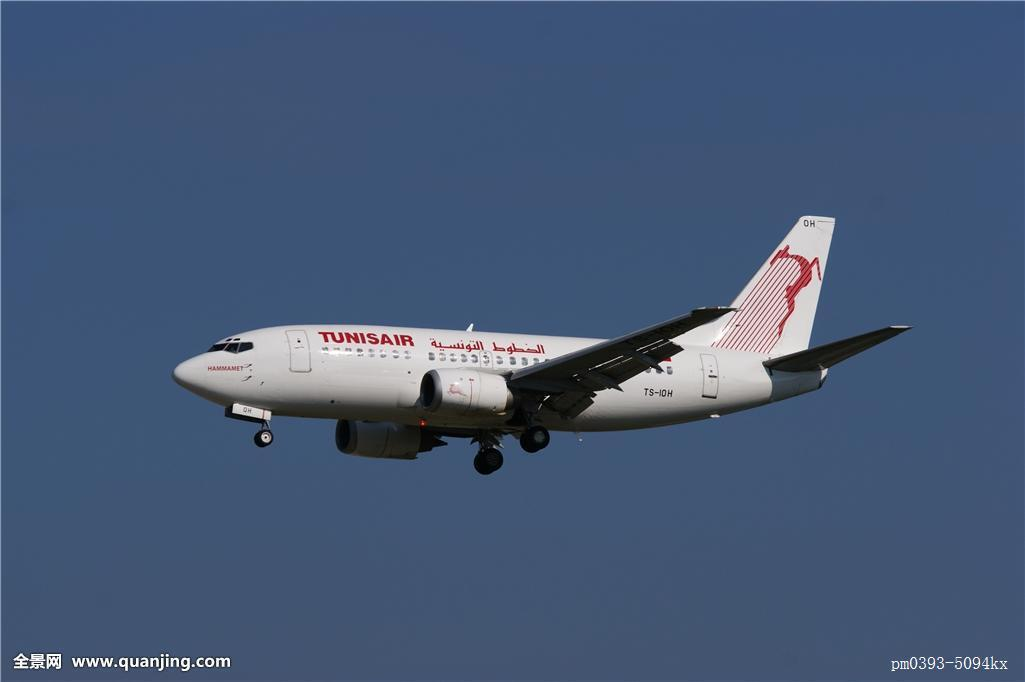airplane: (168, 206, 917, 460)
